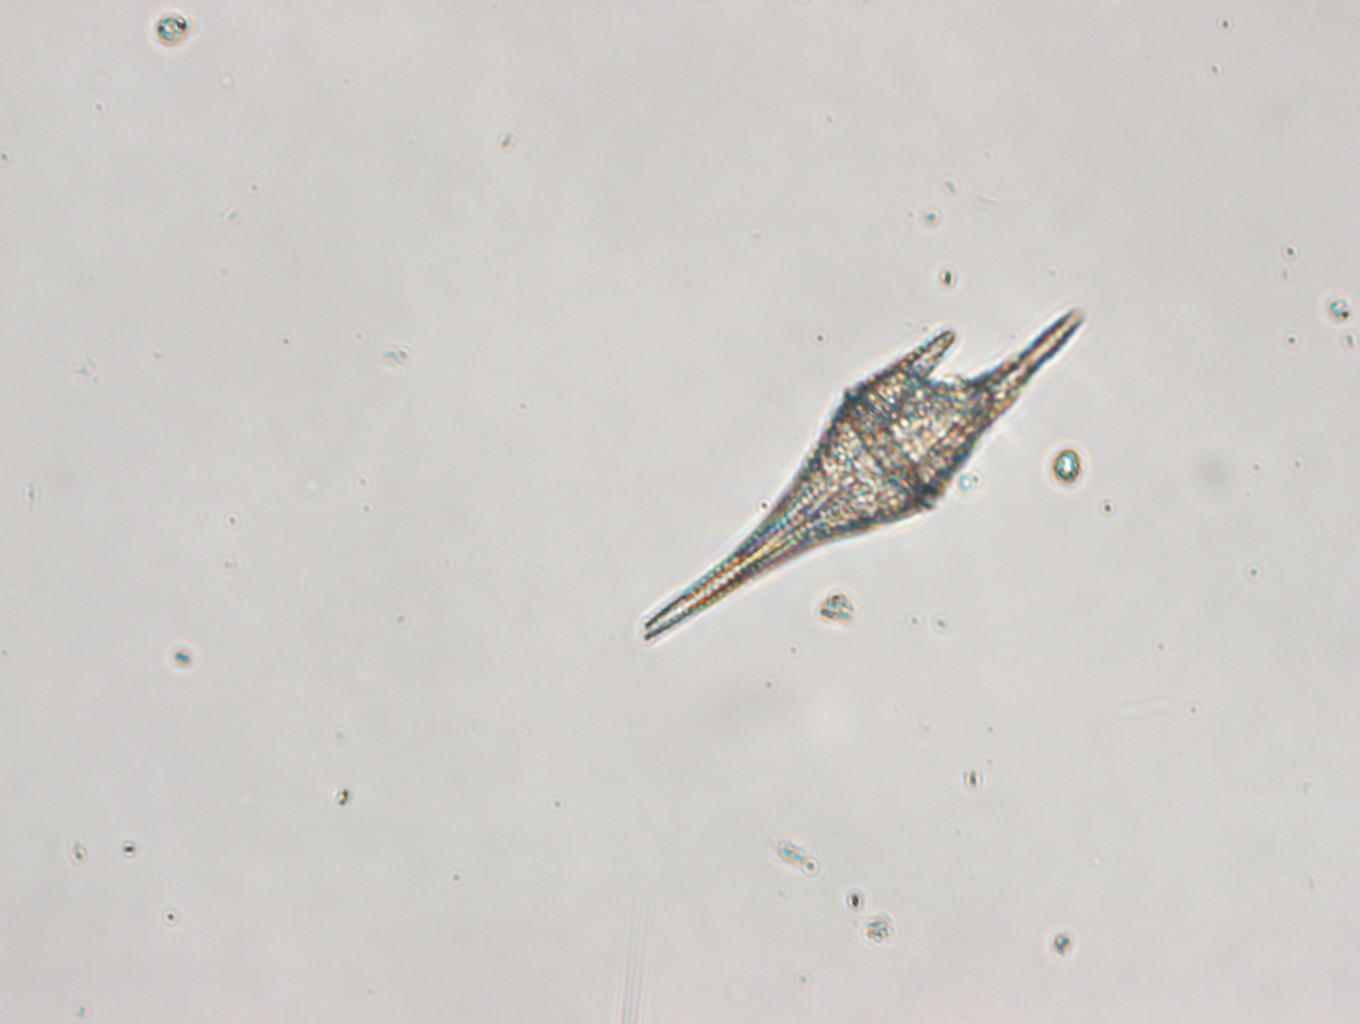ceratium furca: (635, 297, 1094, 642)
